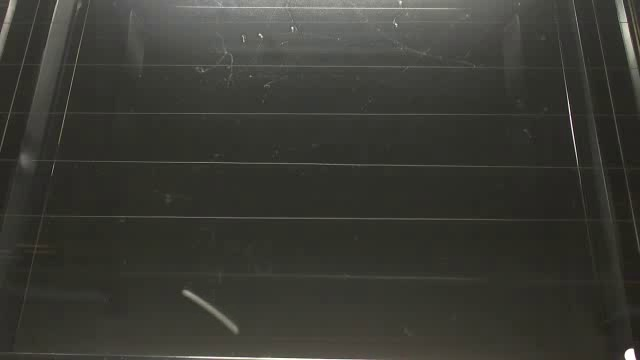Alfa: (178, 283, 242, 335)
